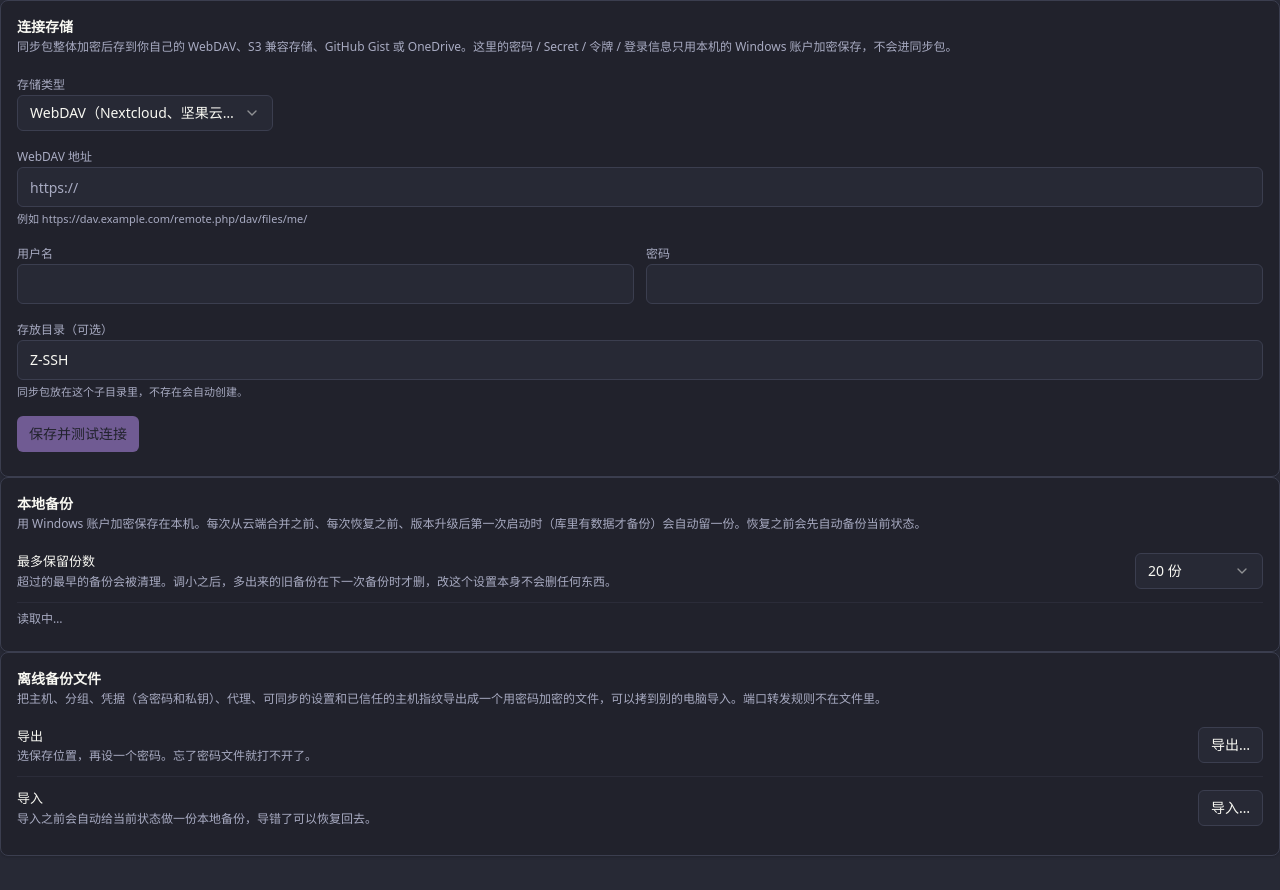
Test: OneDrive 登录过程 › 登录成功：显示已连接的账号，并自动测试连接
Press the mouse on the dropdown "WebDAV（Nextcloud、坚果云、Alist、群晖……）" at (145, 113), box top-left (17, 95), bottom-right (273, 131)
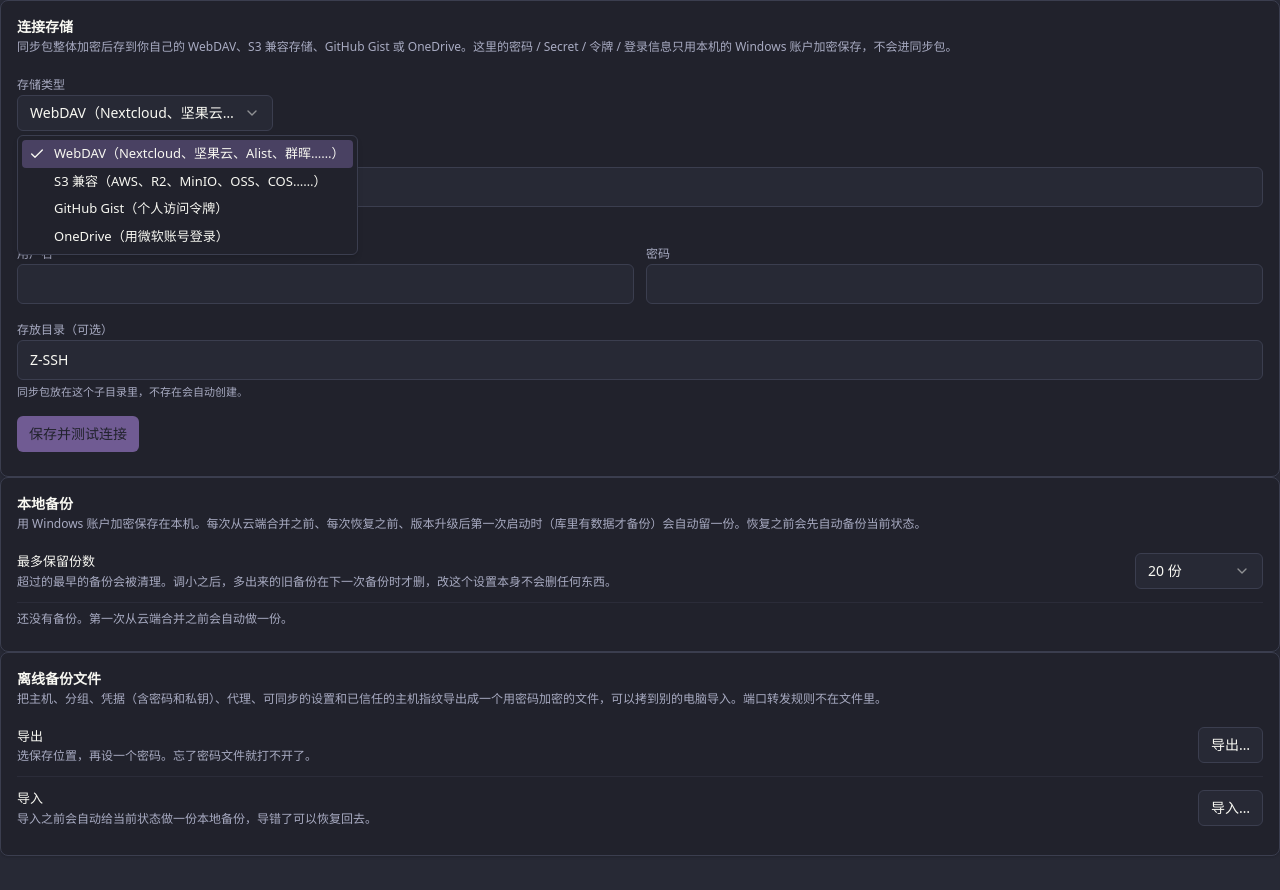
Click the option "OneDrive（用微软账号登录）". click: (141, 236)
box: top-left (54, 226), bottom-right (229, 244)
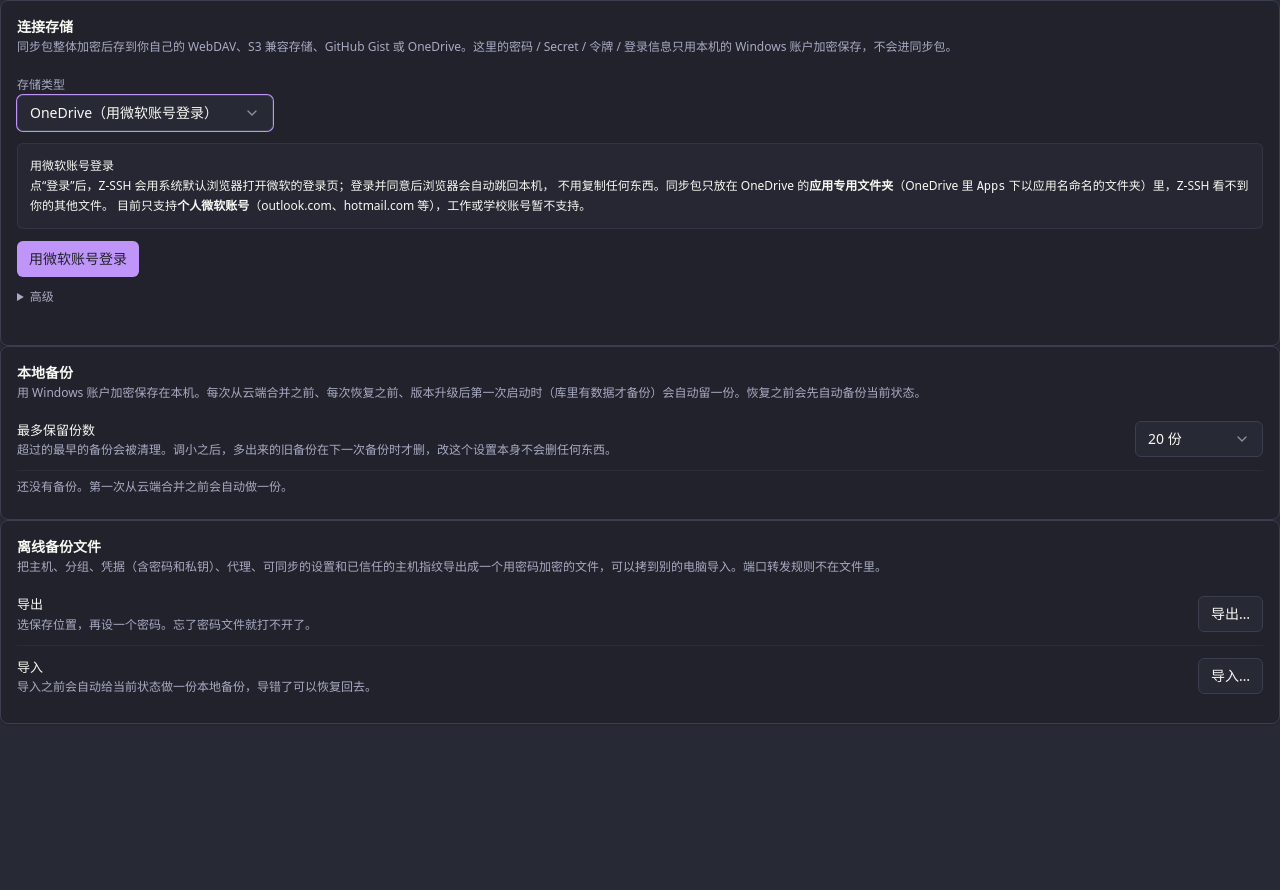
Expected: the element with test id "onedrive-fields" is shown, top-left (17, 143), bottom-right (1263, 304)
Click the button "用微软账号登录". click: (78, 258)
box: top-left (17, 240), bottom-right (139, 276)
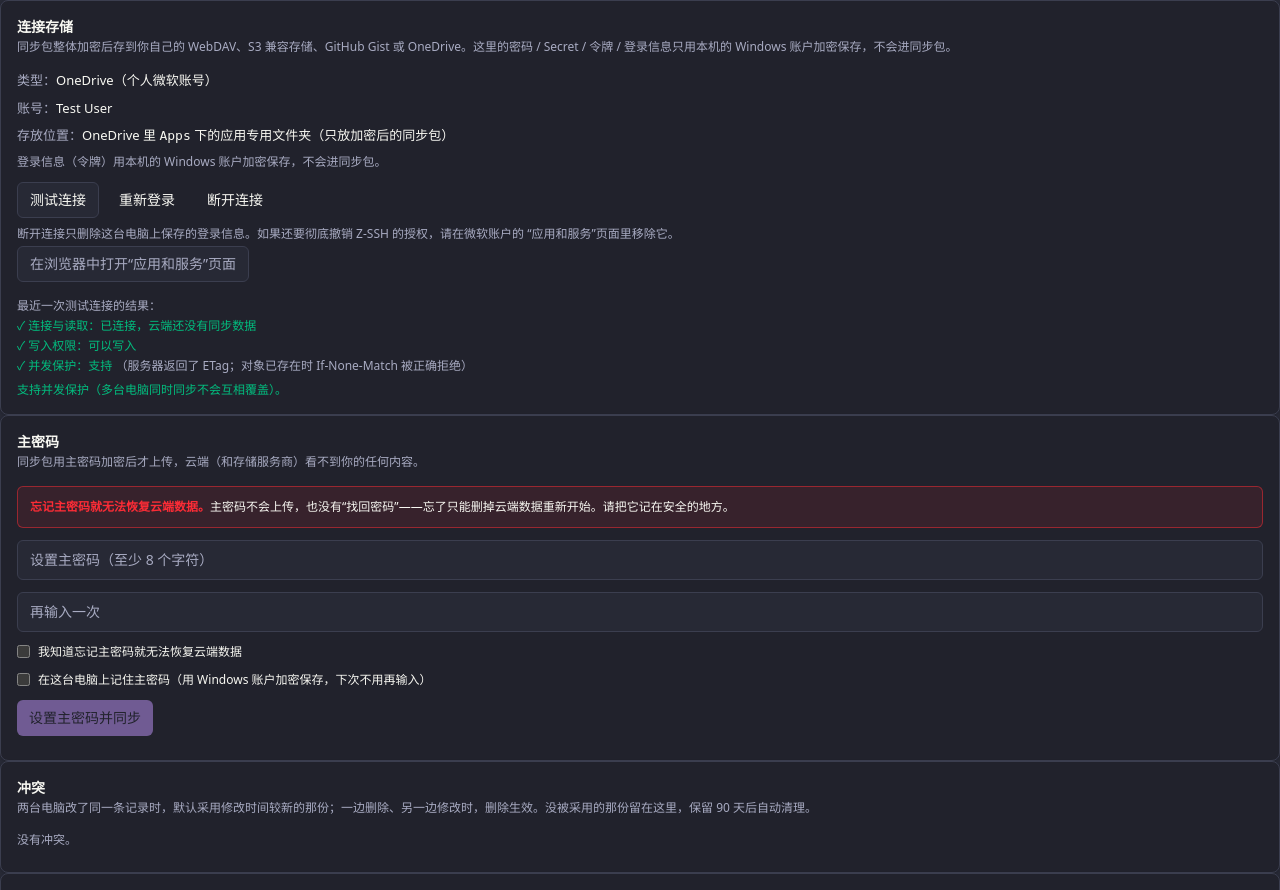
Expected: the element with test id "onedrive-account" shows "Test User", top-left (56, 98), bottom-right (112, 116)
Expected: the element with test id "onedrive-summary" shows "OneDrive（个人微软账号）", top-left (56, 71), bottom-right (218, 89)
Expected: the element with test id "onedrive-summary" shows "应用专用文件夹", top-left (191, 126), bottom-right (454, 144)
